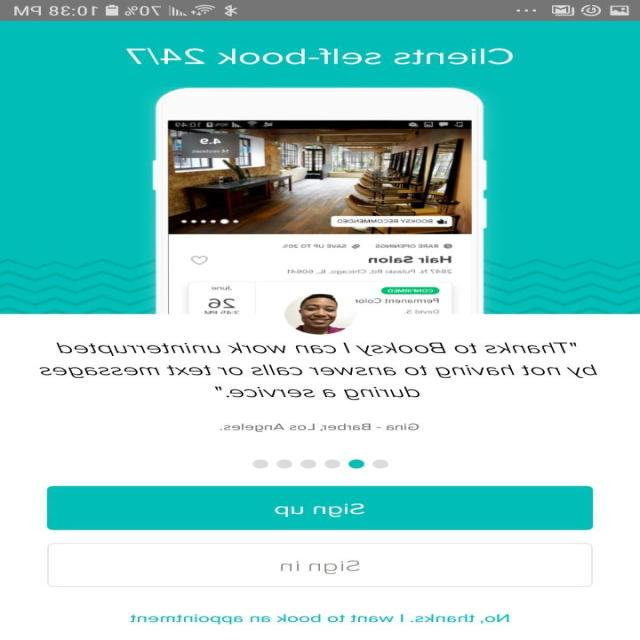Image: (153, 88, 488, 314), (284, 294, 358, 334)
Text: (40, 342, 598, 400), (126, 48, 514, 65), (130, 613, 510, 624), (222, 422, 420, 432)
TextButton: (47, 486, 593, 530), (48, 542, 593, 586)
